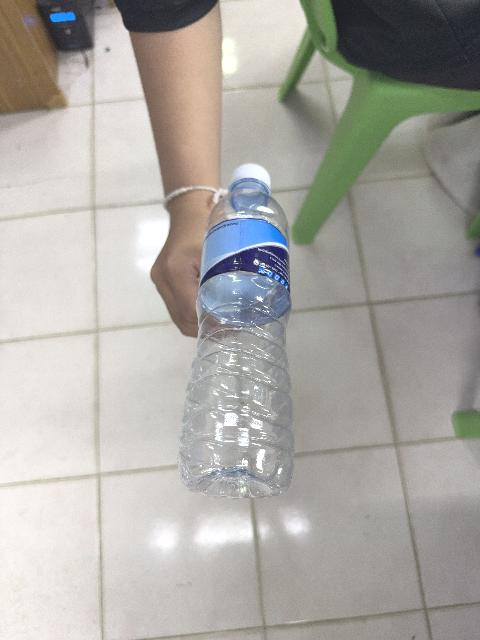bottle: (179, 164, 294, 497)
